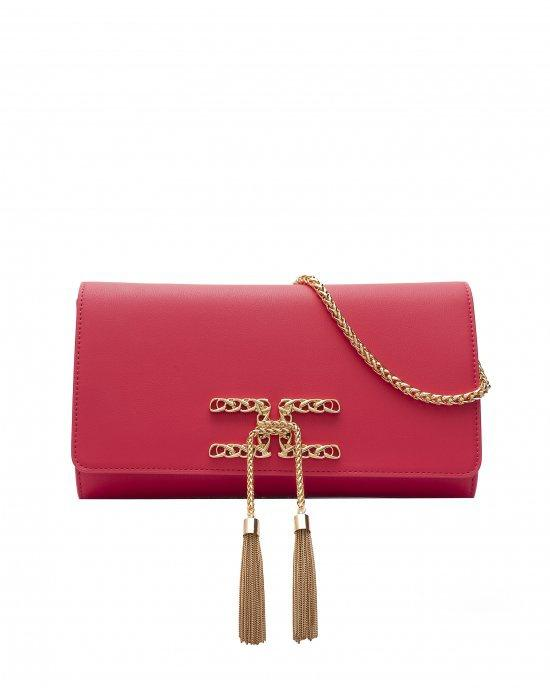ELISABETTA-FRANCHI: (202, 383, 352, 467)
